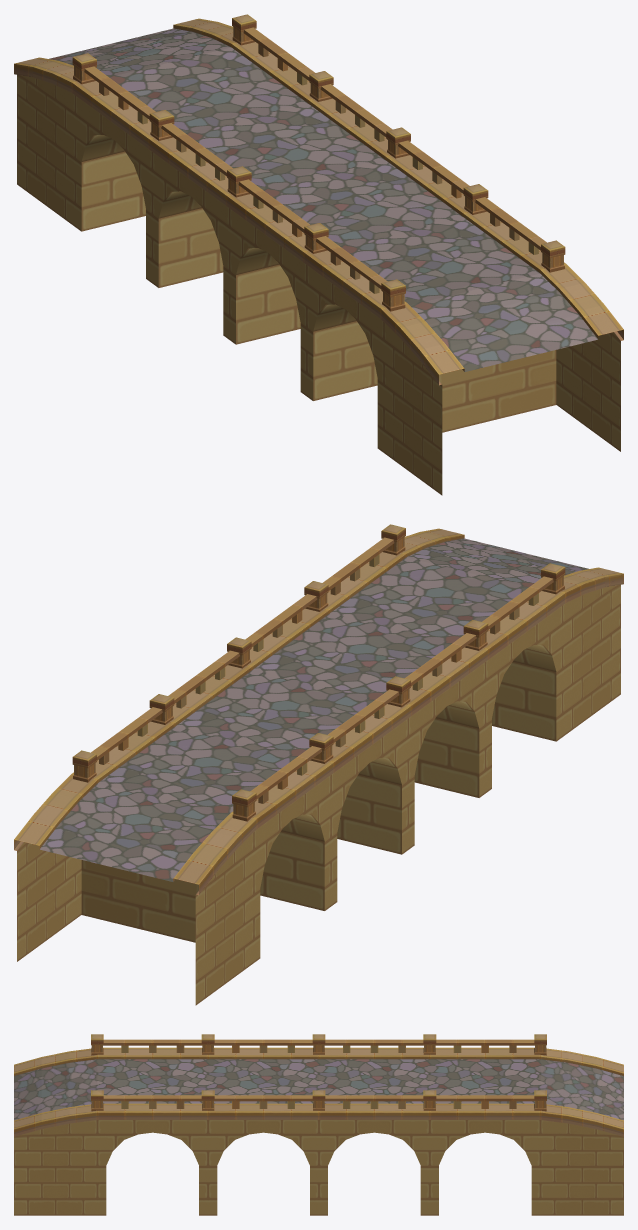
Rendered from Bridge02_d01.FBX.
3 renders of one model, top to bottom at view 1: azimuth 30°, elevation 25°; view 2: azimuth 150°, elevation 25°; view 3: azimuth 270°, elevation 25°, orthographic. The views are drawn at different scales.
Parts seen in each view (by area): view 1: Bridge02_d01; view 2: Bridge02_d01; view 3: Bridge02_d01.
Boxes of the visible parts, box(x1,y1,x2,y2) form: Bridge02_d01: box(14, 14, 623, 495); Bridge02_d01: box(14, 524, 623, 1005); Bridge02_d01: box(14, 1034, 623, 1215).
Size of the model in its own units: 985 by 860 by 3921.
